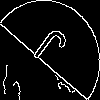J: (25, 25, 70, 76)
